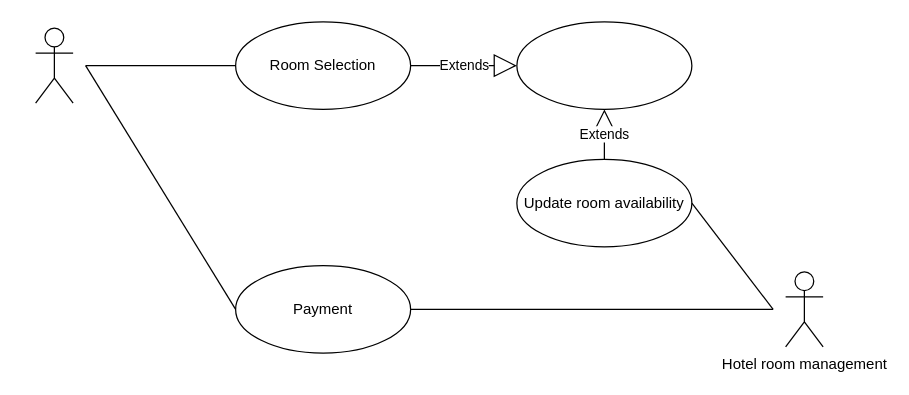
The diagram is 909 pixels wide and 395 high, and some of its shapes have lost their labels. The shapes that lost their labels are listed below. From the top down, each one's centre as x and y in pixels, then its label:
At point (53, 65): "Customer".
At point (604, 65): "Check room availability".
